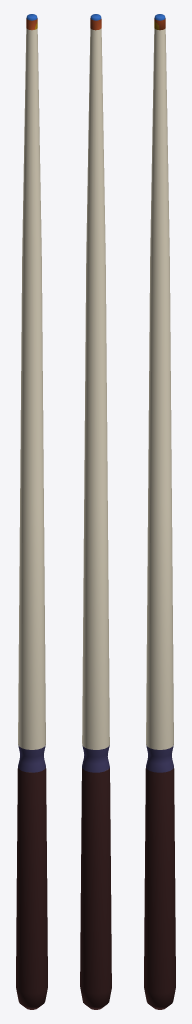
Rendered from TacoDeSinuca.fbx.
The picture shows the model from 3 angles, left to right: view 1: azimuth 90°, elevation 25°; view 2: azimuth 150°, elevation 25°; view 3: azimuth 270°, elevation 25°; orthographic projection.
Visible parts, largest first — view 1: TacoDeSinuca_LoPo; view 2: TacoDeSinuca_LoPo; view 3: TacoDeSinuca_LoPo.
Part boxes in pixels (bbox=[...]): TacoDeSinuca_LoPo: bbox=[16, 14, 47, 1009]; TacoDeSinuca_LoPo: bbox=[80, 14, 111, 1009]; TacoDeSinuca_LoPo: bbox=[144, 14, 175, 1009].
Bounding box in the file's own units: 5 × 170 × 5.
